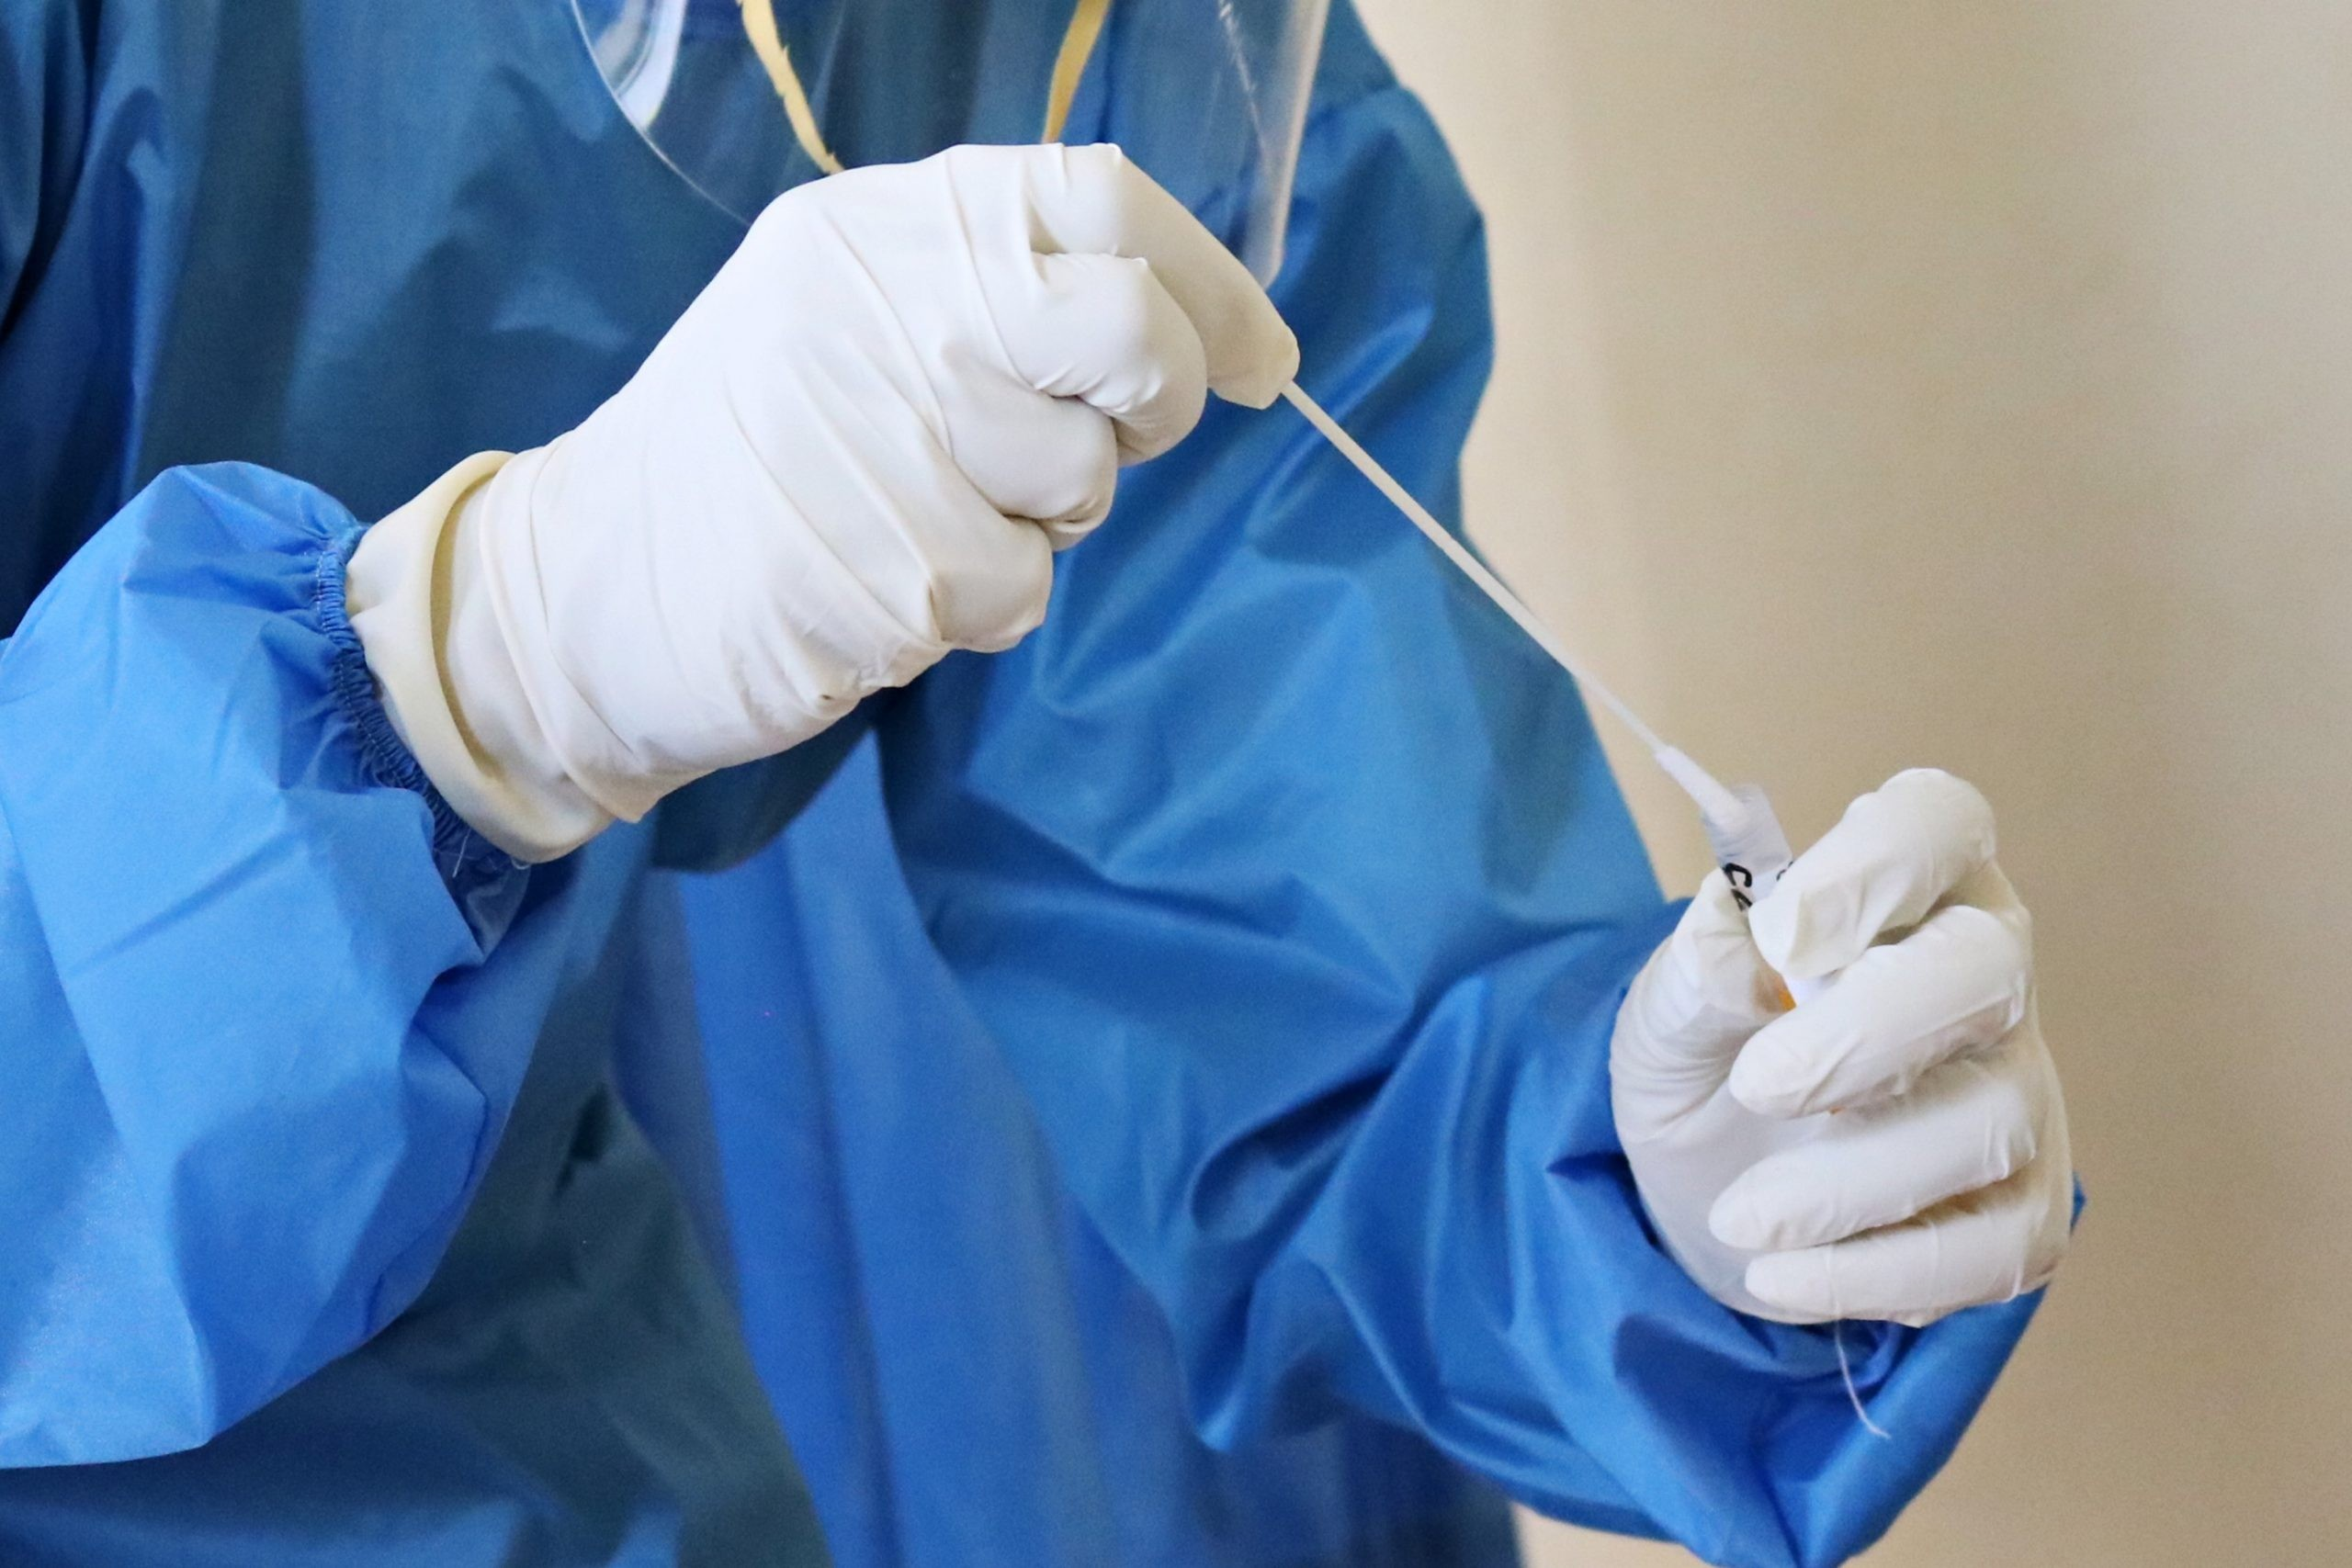Coverall: (2, 12, 1725, 1568)
Gloves: (336, 121, 1311, 952), (1573, 718, 2096, 1340)
